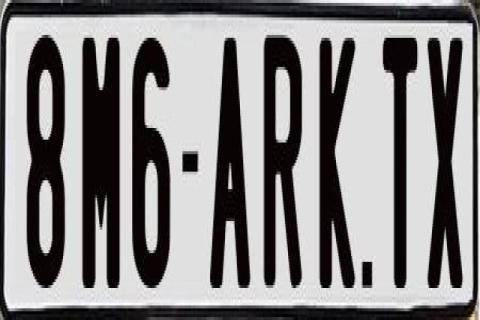0: (27, 35, 67, 299), (132, 32, 170, 291)
A: (209, 32, 255, 285)
K: (316, 35, 358, 303)
M: (78, 38, 118, 302)
R: (262, 29, 306, 282)
T: (382, 38, 419, 288)
X: (426, 29, 461, 294)
